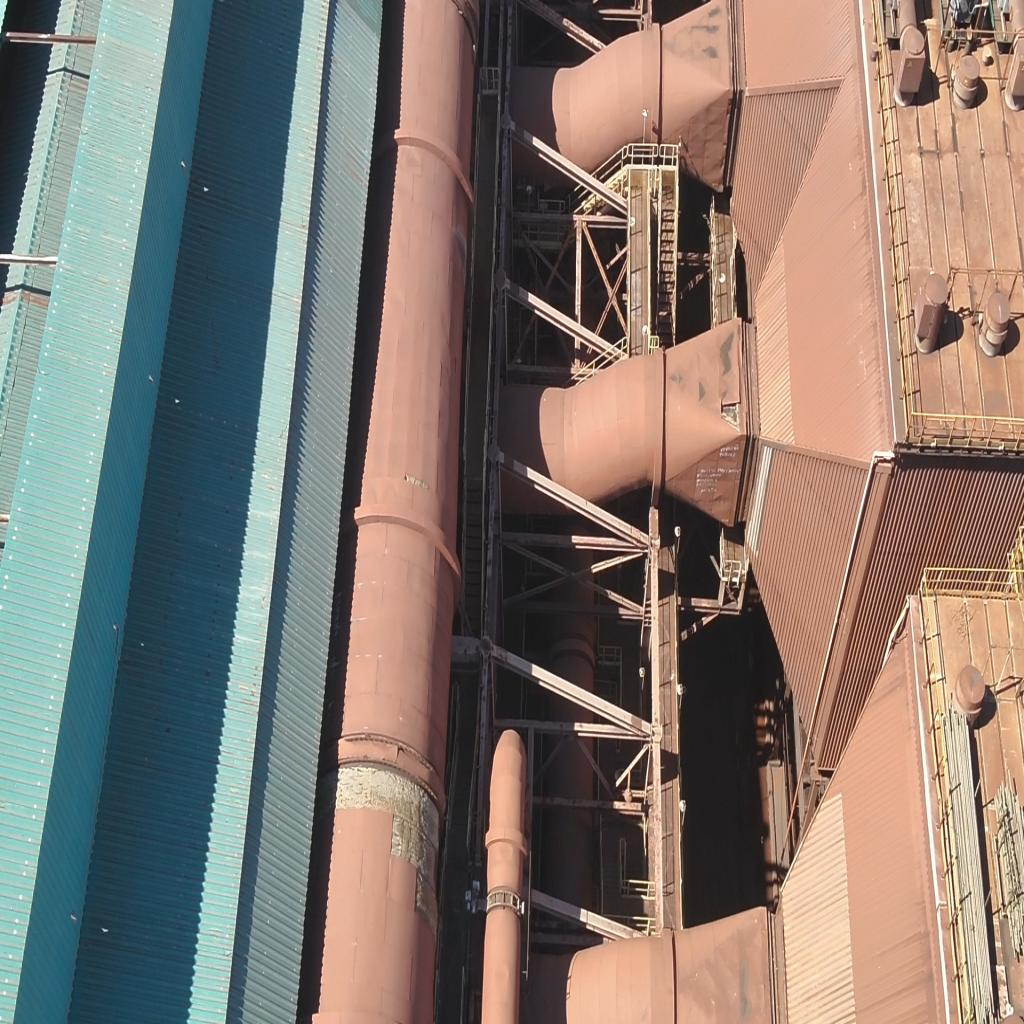Failures: (324, 758, 439, 931), (721, 395, 742, 435)
